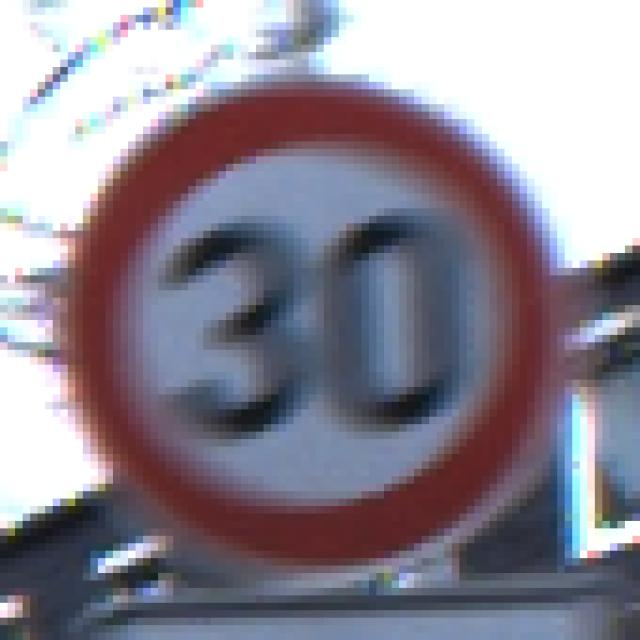Speed Limit -30-: (49, 56, 583, 584)
